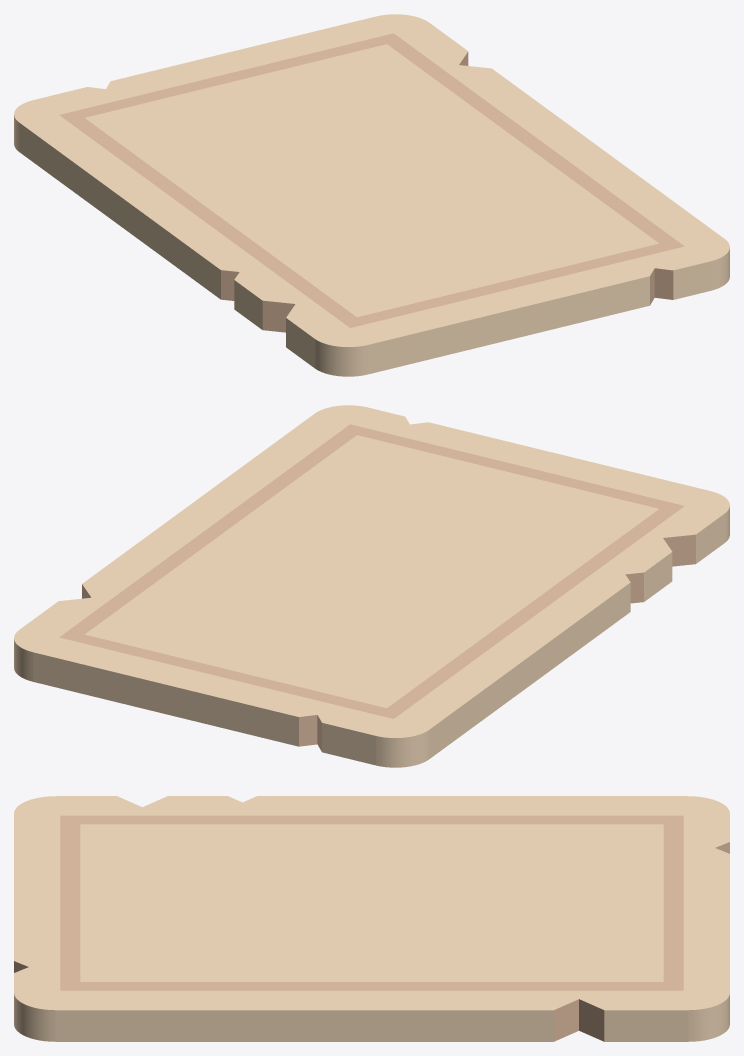
File: cuttingBoard.glb
3 views of the same model, one above another, from view 1: azimuth 30°, elevation 25°; view 2: azimuth 150°, elevation 25°; view 3: azimuth 270°, elevation 25° (orthographic). The views are drawn at different scales.
Visible parts, largest first — view 1: cuttingBoard; view 2: cuttingBoard; view 3: cuttingBoard.
Boxes of the visible parts, box(x1,y1,x2,y2) form: cuttingBoard: box(14, 14, 729, 376); cuttingBoard: box(14, 405, 729, 767); cuttingBoard: box(14, 796, 729, 1041).
Size of the model in its own units: 0.58 by 0.04 by 0.82.
